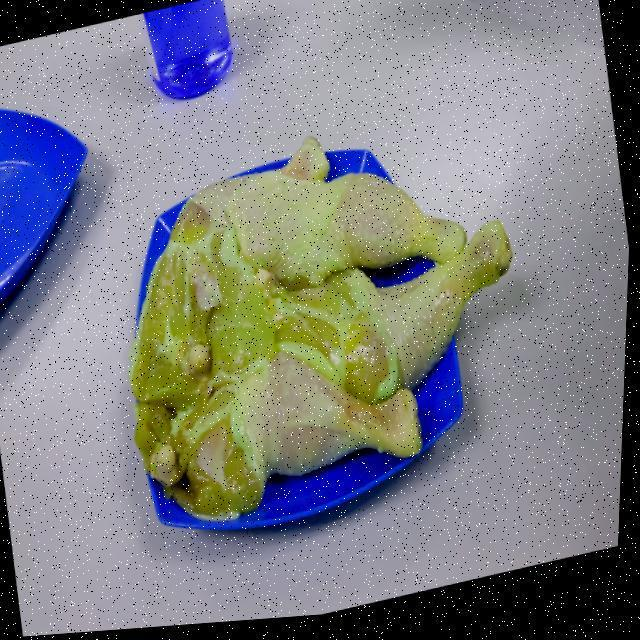quater: (102, 147, 456, 305), (251, 223, 548, 371), (192, 357, 418, 522)
